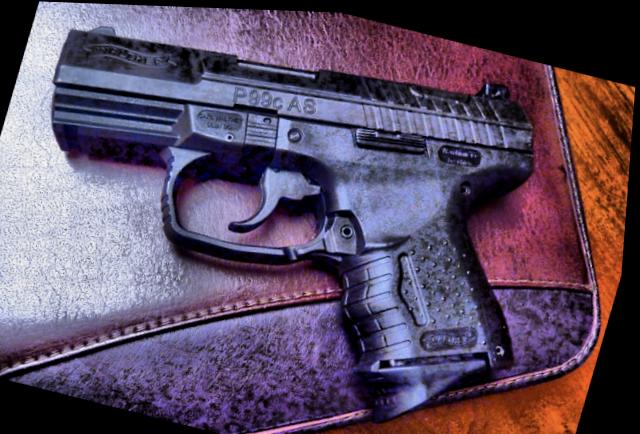pistol: (0, 0, 593, 434)
